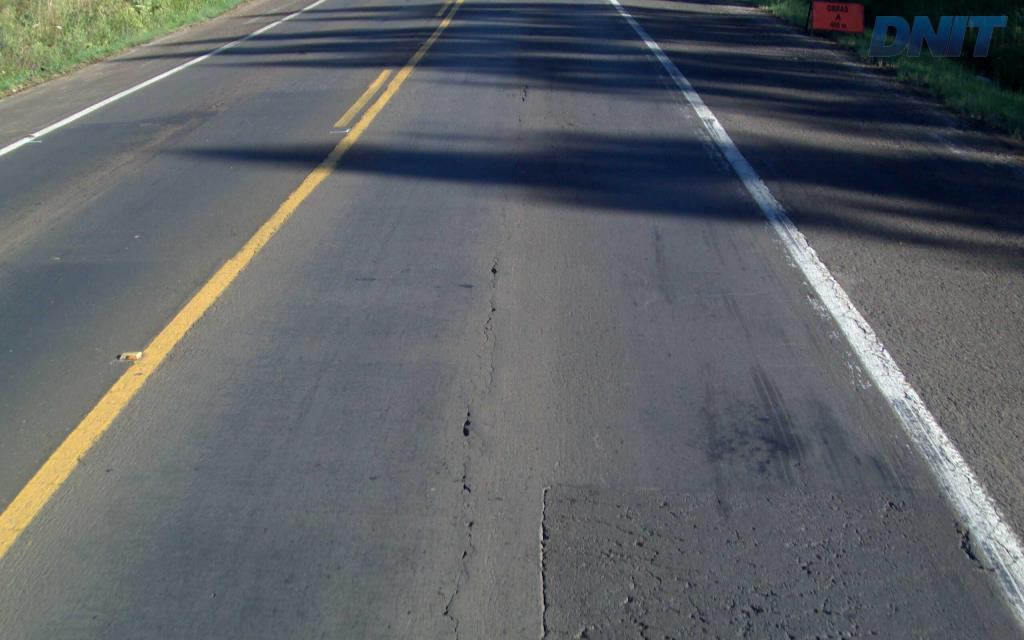crack: (540, 489, 555, 637)
